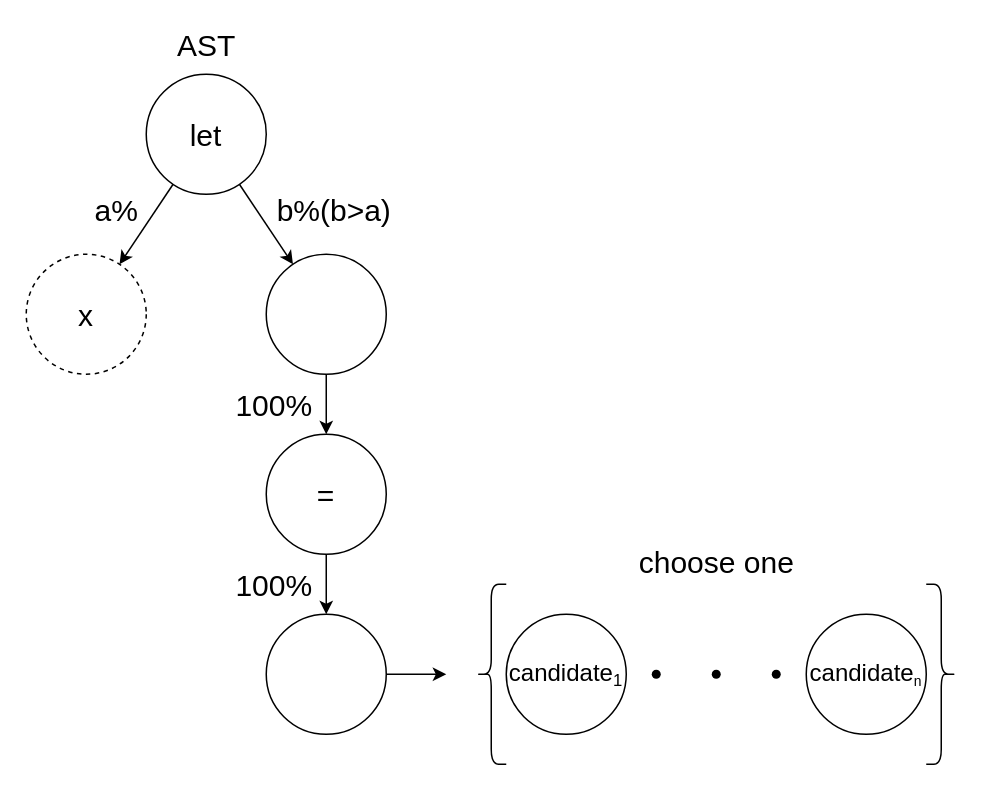
The diagram is 983 pixels wide and 791 high, and some of its shapes have lost their labels. The shapes that lost their labels are listed below. From the top down, each one's centre as x and y in pixels, then its label:
At [325,313]: "rec".
At [325,673]: "exp".
